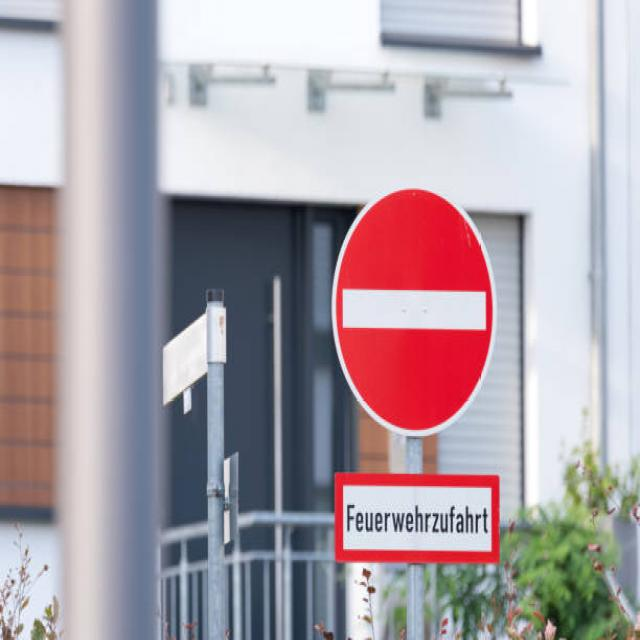do_not_enter: (320, 173, 506, 449)
